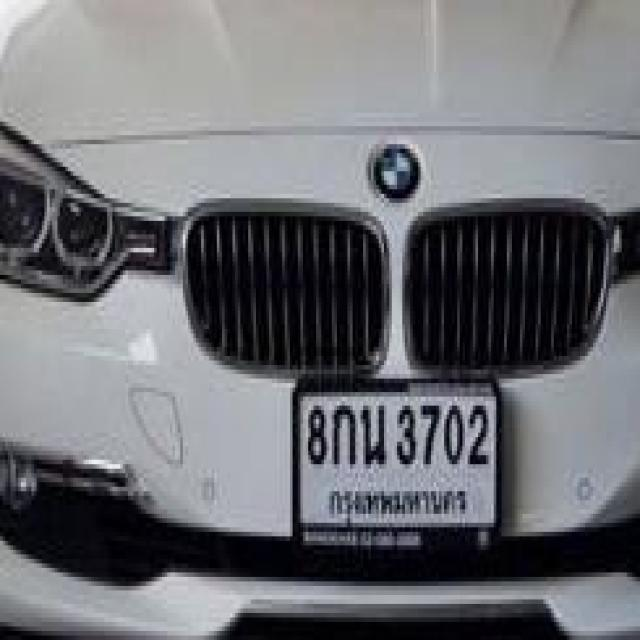plate: (298, 388, 499, 526)
